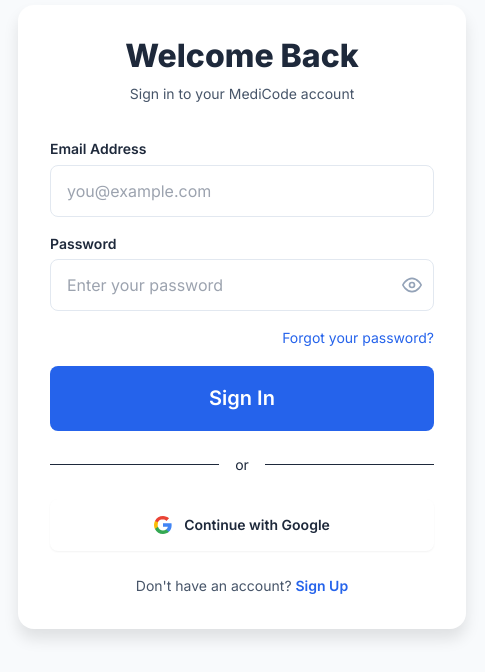
Test: Login › when not authenticated › shows password validation error when password is too short
Type "user@test.com" into the field labelled "Email Address".
click(242, 191); type("user@test.com")  # box left=50, top=165, right=434, bottom=217
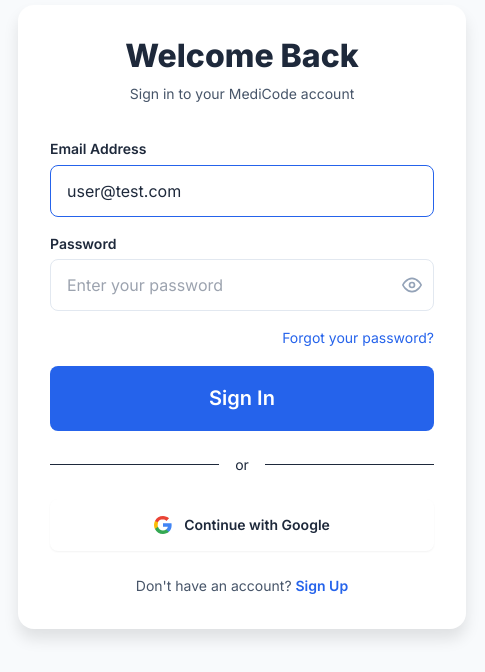
Type "123" into the password field labelled "Password".
click(242, 285); type("123")  # box left=50, top=259, right=434, bottom=311
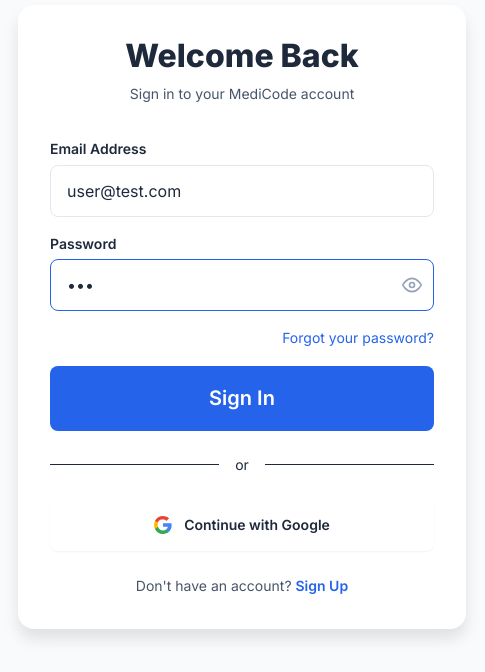
Click the button "Sign In".
click(242, 398)  # box left=50, top=366, right=434, bottom=431
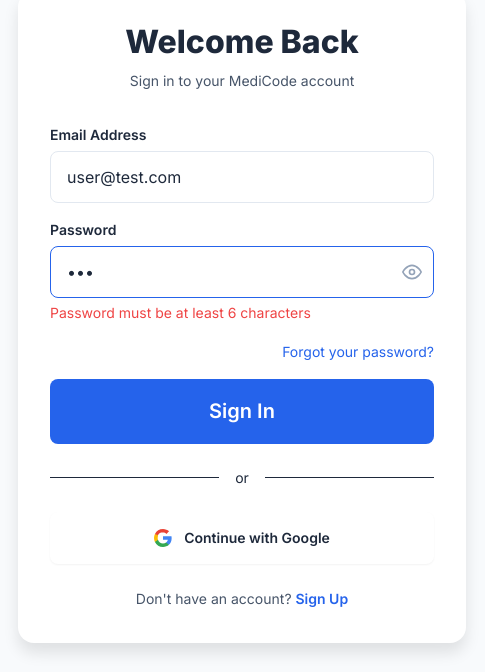
Check: the text "Password must be at least 6 characters" is shown, box left=50, top=304, right=311, bottom=321
